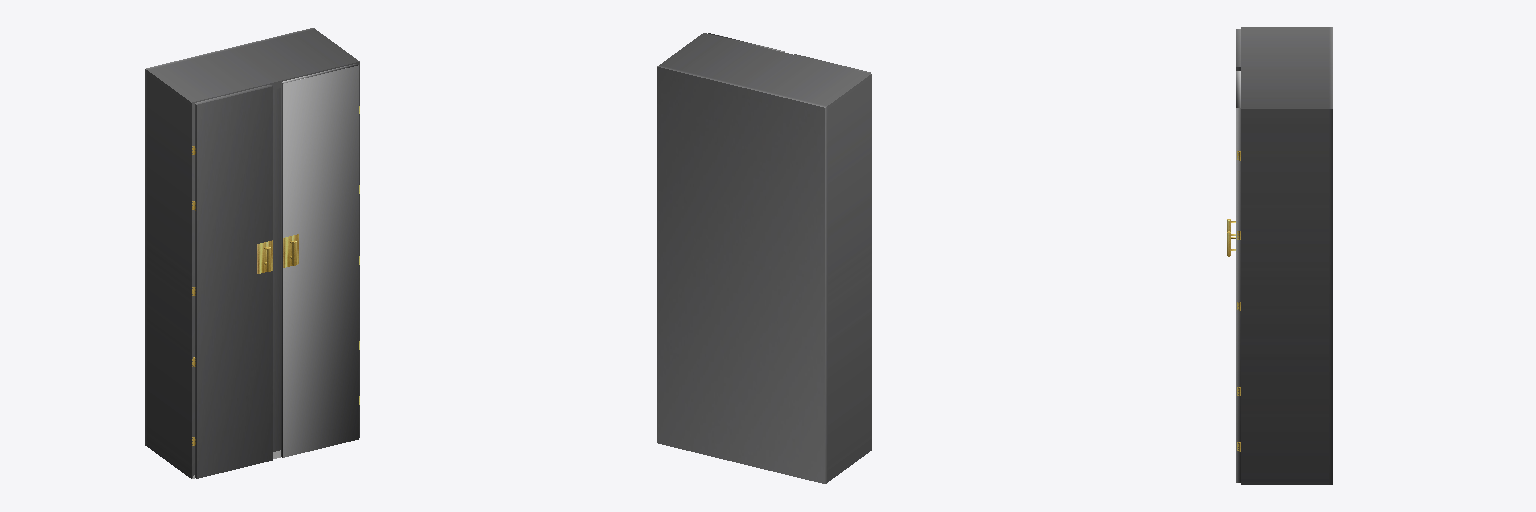
The picture shows the model from 3 angles: view 1: azimuth 30°, elevation 25°; view 2: azimuth 150°, elevation 25°; view 3: azimuth 270°, elevation 25°; orthographic projection.
Parts seen in each view (by area): view 1: pCube1_Untitled.002, polySurface15_Untitled.009, polySurface14_Untitled.001; view 2: pCube1_Untitled.002; view 3: pCube1_Untitled.002, polySurface15_Untitled.009.
Part boxes in pixels (x1,y1,x2,y2): pCube1_Untitled.002: (145, 28, 359, 478); polySurface15_Untitled.009: (281, 64, 358, 457); polySurface14_Untitled.001: (195, 85, 272, 478); pCube1_Untitled.002: (657, 33, 871, 483); pCube1_Untitled.002: (1241, 27, 1332, 484); polySurface15_Untitled.009: (1227, 71, 1240, 482).
Size of the model in its own units: 0.0722 by 0.1544 by 0.0397.
Materials: 2 (2 with a texture image).